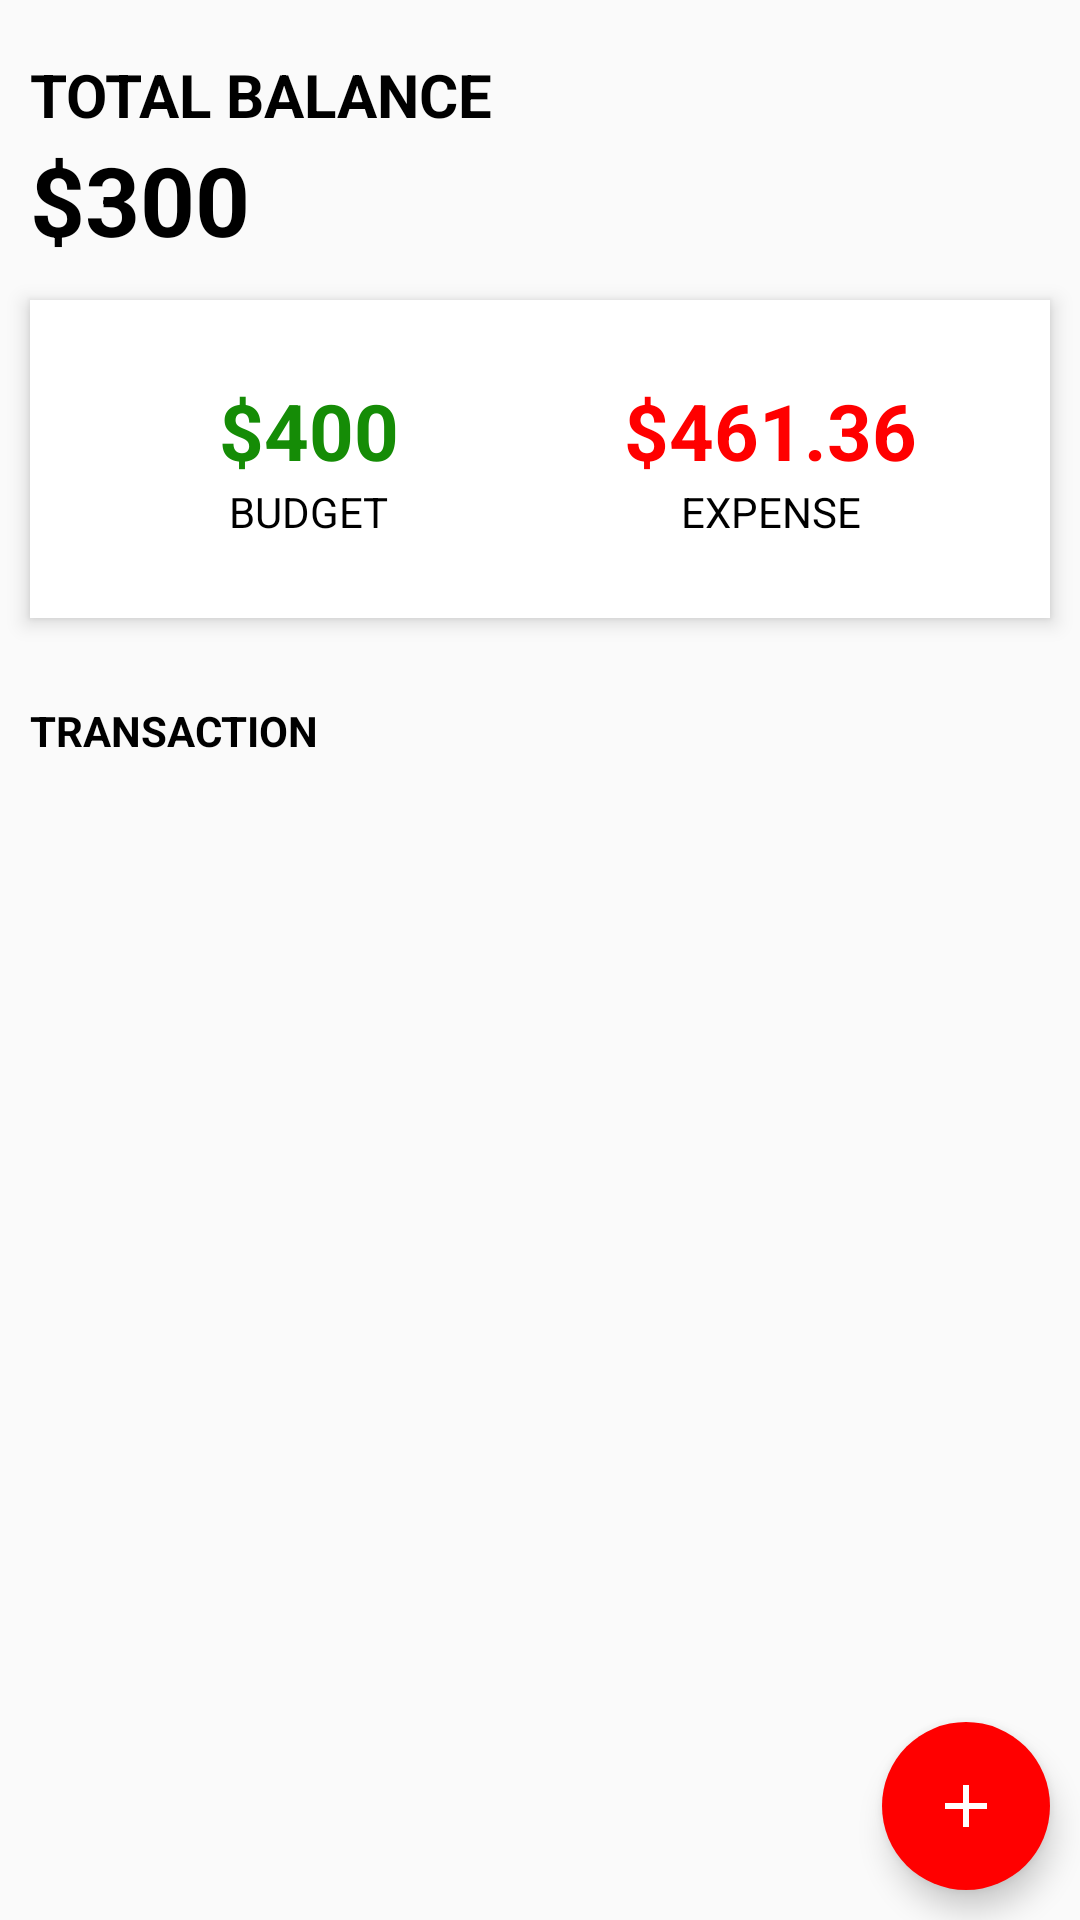

Where to tap for icons on this 1080 × 1920 app screen, as [x,y]:
Add Transaction: [966,1806]
